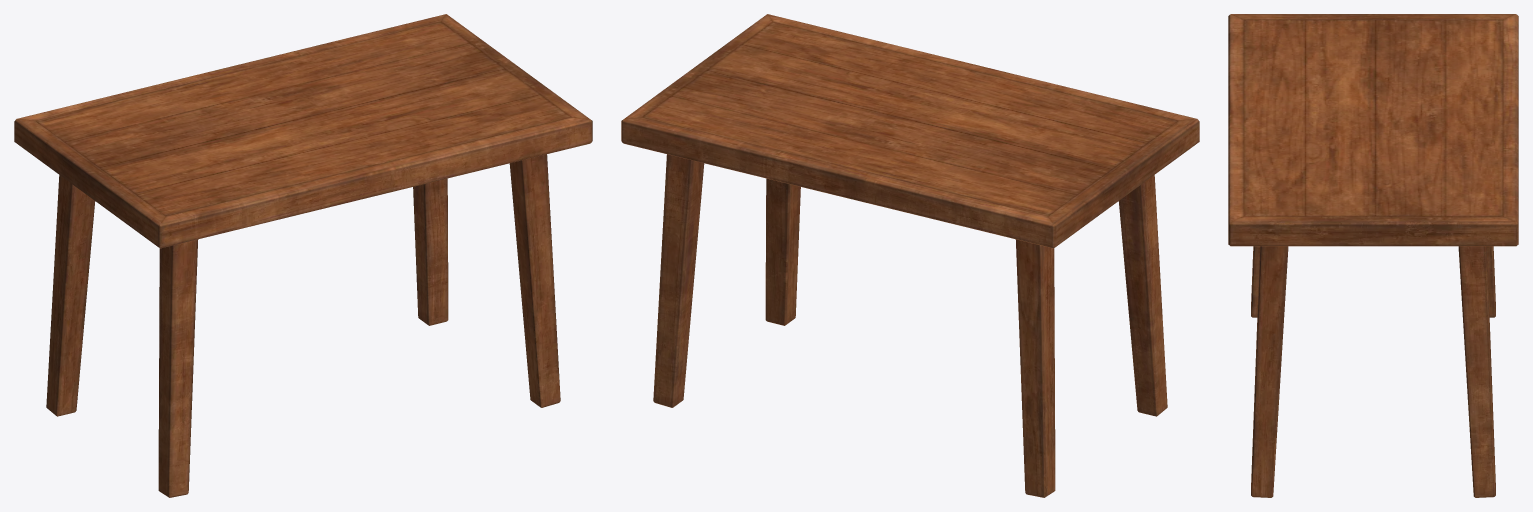
The model's file is table-wood.glb.
3 renders of one model, left to right at view 1: azimuth 30°, elevation 25°; view 2: azimuth 150°, elevation 25°; view 3: azimuth 270°, elevation 25°, orthographic.
Visible parts, largest first — view 1: wooden_table_02; view 2: wooden_table_02; view 3: wooden_table_02.
Part boxes in pixels (bbox=[...]): wooden_table_02: bbox=[14, 14, 592, 497]; wooden_table_02: bbox=[621, 14, 1199, 497]; wooden_table_02: bbox=[1228, 14, 1518, 497].
Size of the model in its own units: 1.2 by 0.76 by 0.7.
Materials: 1 (1 with a texture image).
